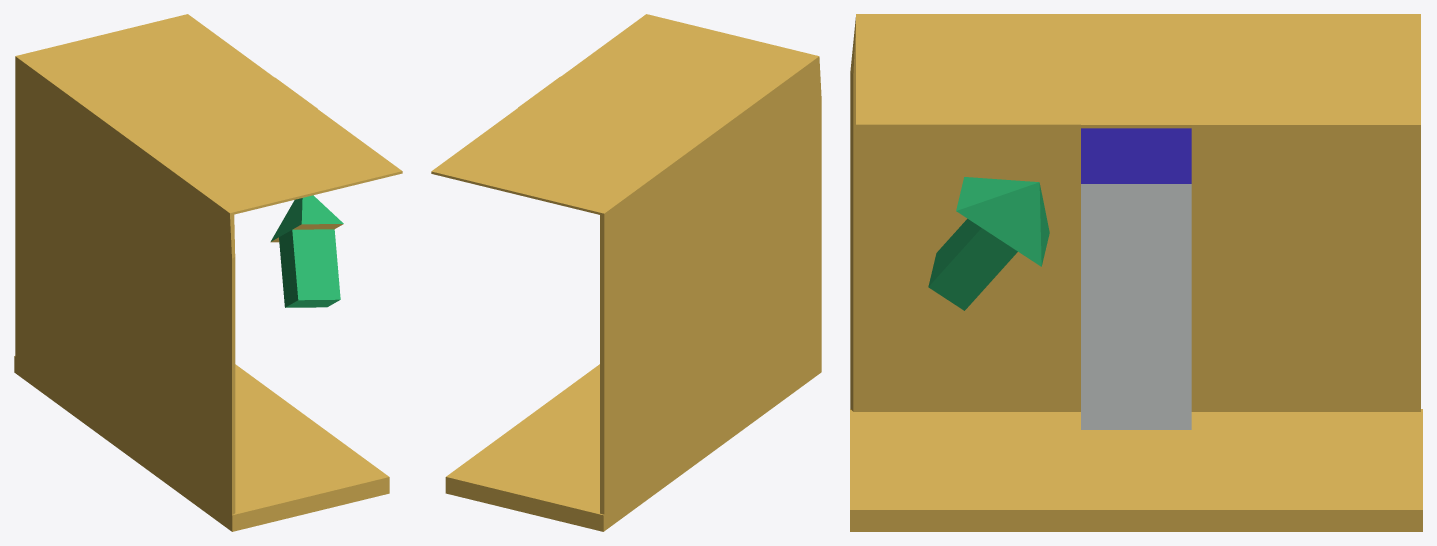
File: Beam 1.fbx
3 views of the same model, side by side, from view 1: azimuth 30°, elevation 25°; view 2: azimuth 150°, elevation 25°; view 3: azimuth 270°, elevation 25° (orthographic). The views are drawn at different scales.
Parts seen in each view (by area): view 1: Cube; view 2: Cube; view 3: Cube.
Part boxes in pixels (left/top/right/bottom): Cube: left=14, top=14, right=402, bottom=531; Cube: left=431, top=14, right=821, bottom=531; Cube: left=850, top=14, right=1422, bottom=531.
Size of the model in its own units: 417 by 722 by 898.
